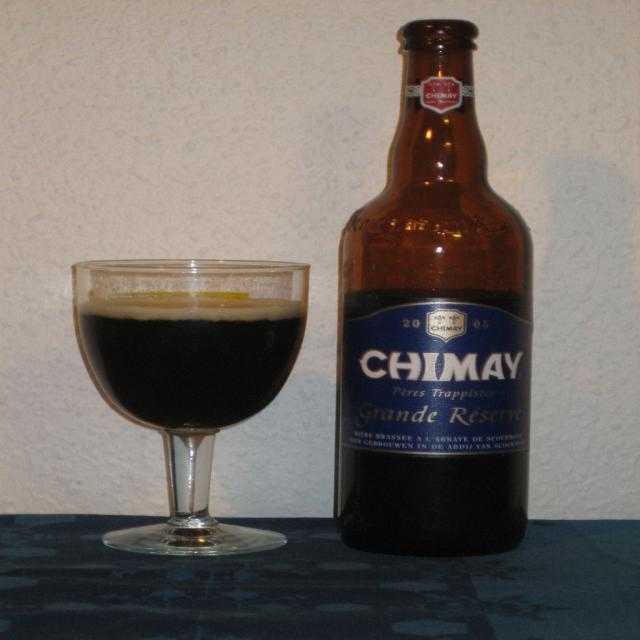chimay: (340, 301, 534, 453)
